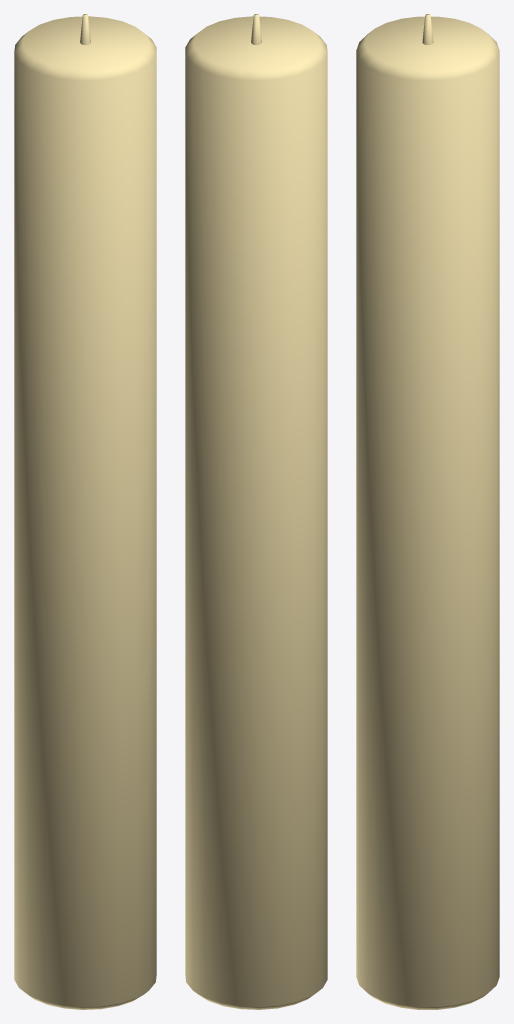
File: Candle.obj
3 views of the same model, side by side, from view 1: azimuth 30°, elevation 25°; view 2: azimuth 150°, elevation 25°; view 3: azimuth 270°, elevation 25° (orthographic).
Visible parts, largest first — view 1: Cylinder.001_Cylinder.002; view 2: Cylinder.001_Cylinder.002; view 3: Cylinder.001_Cylinder.002.
Boxes of the visible parts, left/top/right/bottom form: Cylinder.001_Cylinder.002: left=14, top=14, right=156, bottom=1009; Cylinder.001_Cylinder.002: left=185, top=14, right=327, bottom=1009; Cylinder.001_Cylinder.002: left=356, top=14, right=499, bottom=1009.
Size of the model in its own units: 0.0237 by 0.1785 by 0.024.
